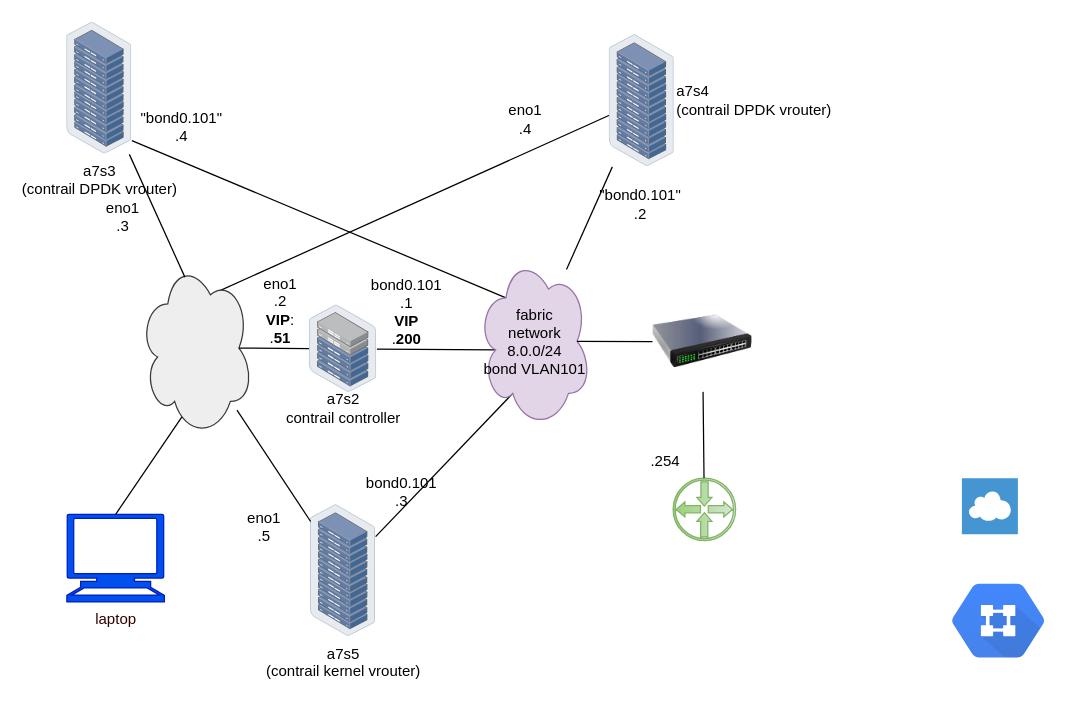
This 1065x703 diagram has some shape labels left out. The shapes that lost their labels are listed below. From the top down, each one's box as (x1, y1, x2, y2) in pixels, then its label:
(138, 258, 253, 437): management network 10.84.27/24
(652, 291, 752, 391): QFX switch
